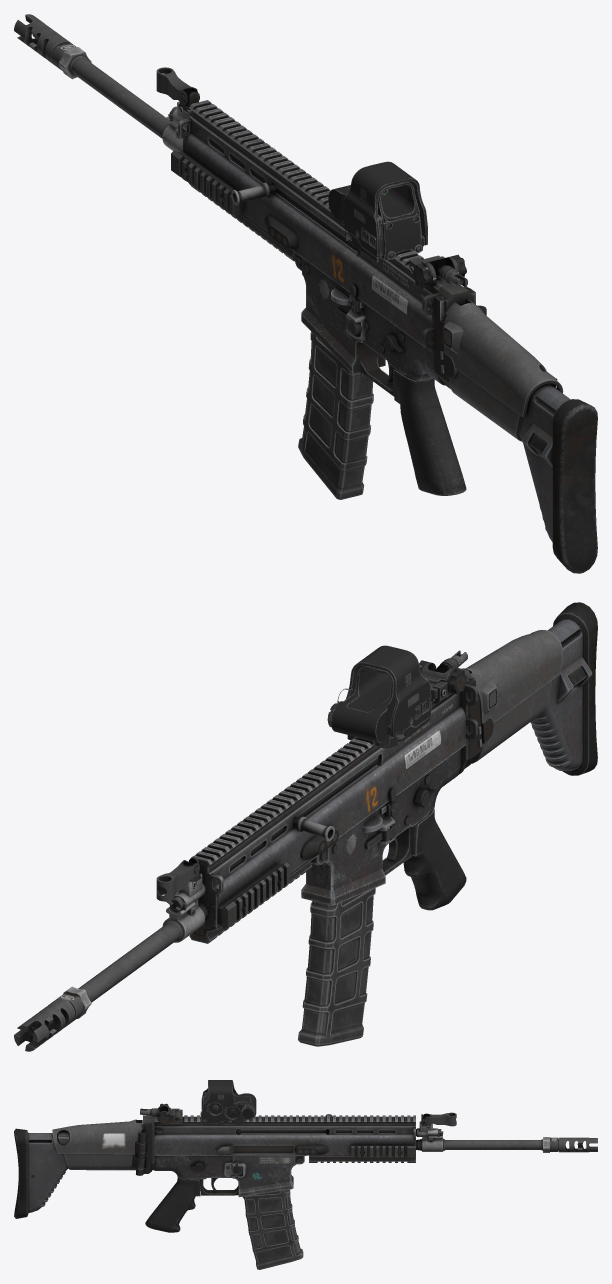
File: scar_fp.glb
3 renders of one model, top to bottom at view 1: azimuth 30°, elevation 25°; view 2: azimuth 150°, elevation 25°; view 3: azimuth 270°, elevation 25°, orthographic. The views are drawn at different scales.
Parts seen in each view (by area): view 1: polySurface45, polySurface653; view 2: polySurface45, polySurface653; view 3: polySurface45, polySurface653.
Boxes of the visible parts, x1=… form: polySurface45: x1=14, y1=14, x2=597, y2=573; polySurface653: x1=298, y1=331, x2=373, y2=499; polySurface45: x1=14, y1=602, x2=597, y2=1051; polySurface653: x1=298, y1=888, x2=375, y2=1046; polySurface45: x1=14, y1=1080, x2=597, y2=1232; polySurface653: x1=242, y1=1189, x2=303, y2=1269.
Size of the model in its own units: 0.0792 by 0.3447 by 0.99.
Materials: 3 (3 with a texture image).
